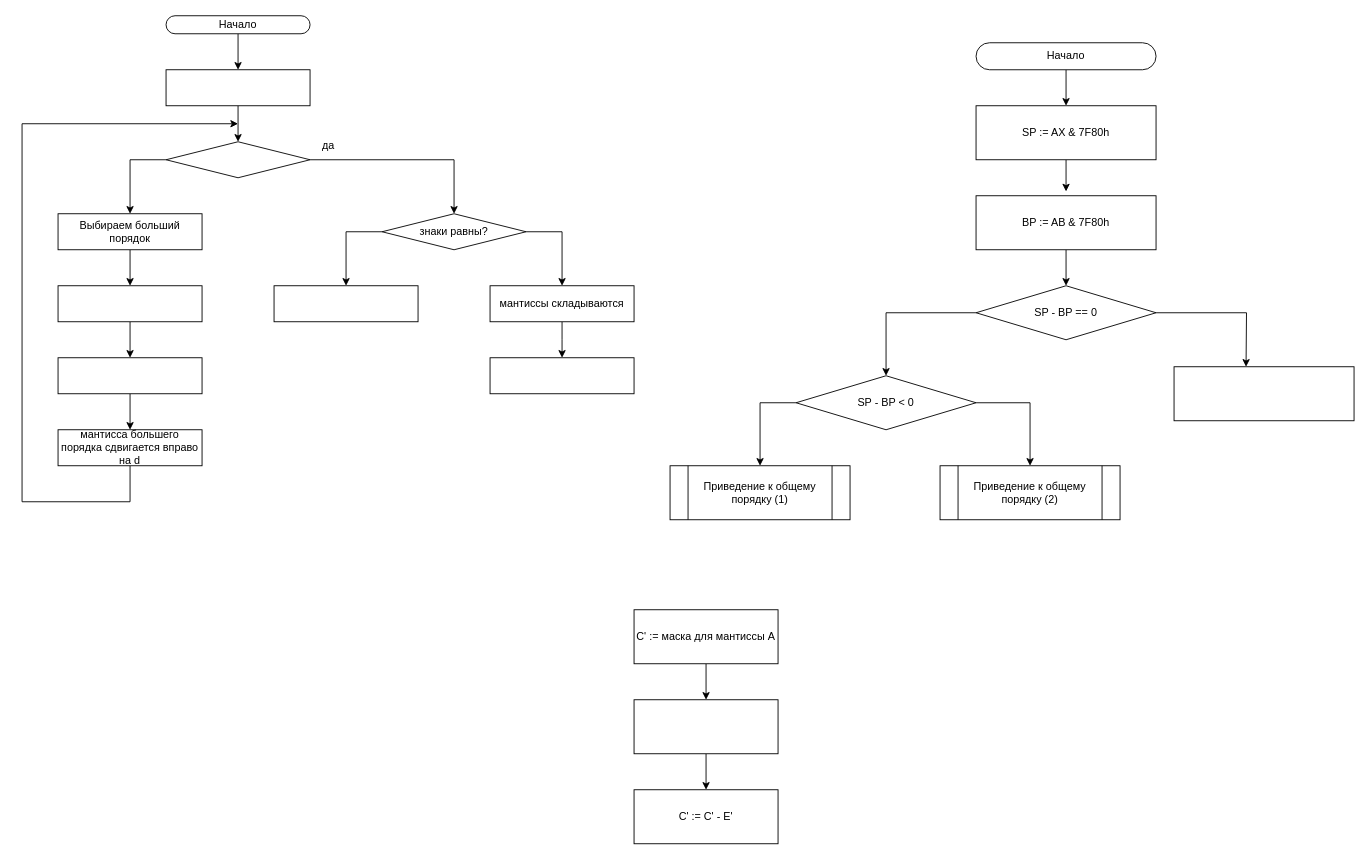
This 1370x860 diagram has some shape labels left out. The centre of each missing label's shape, as x and y in pixels:
E' := маска для мантиссы B: point (705, 726)
знак остается тем же: point (561, 375)
Конечный порядок равен минимальному: point (129, 375)
мантиссы вычитаются: point (345, 303)
находим разницу между порядками d: point (129, 303)
порядки равны?: point (237, 159)
Применение масок знаков, порядков, мантисс: point (237, 87)
